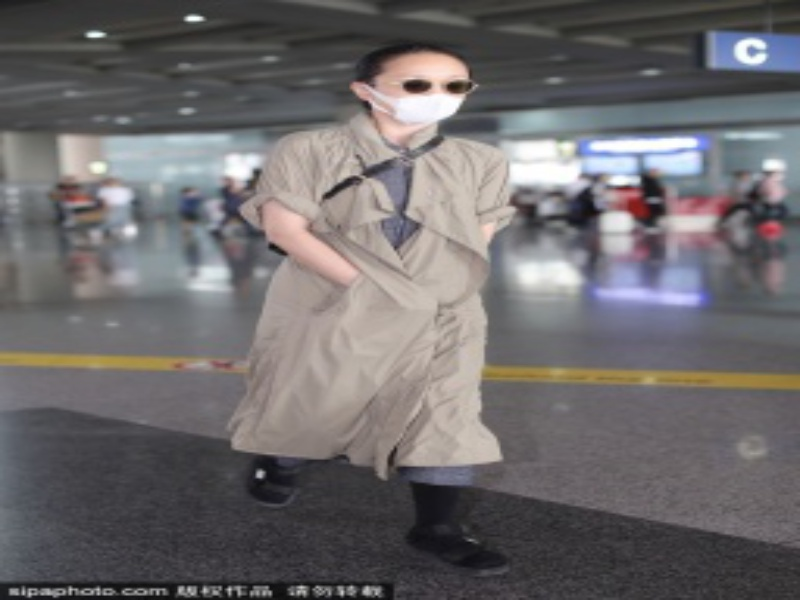ManaoArotava: (348, 30, 487, 149)
